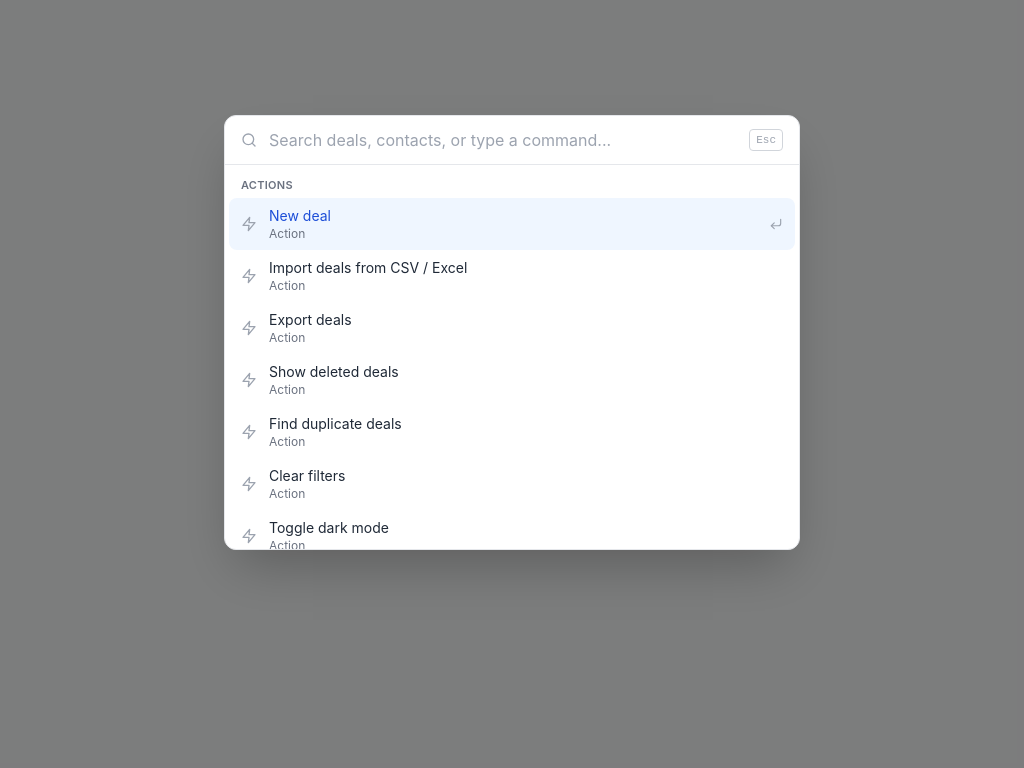
Scenario: CommandPalette › adds semantic contact matches when not in demo mode
Type "chief executive" into the dropdown at [509, 140], box [269,116,749,164]
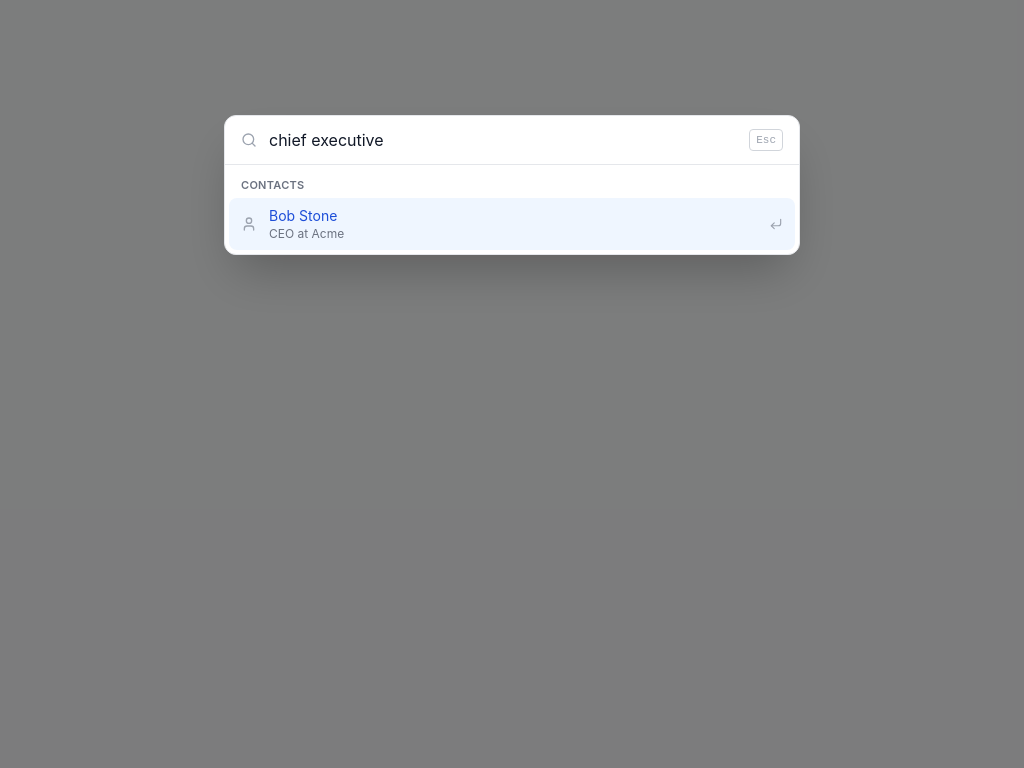
Result: the option "Bob Stone CEO at Acme" is shown at [229,198,795,250]
